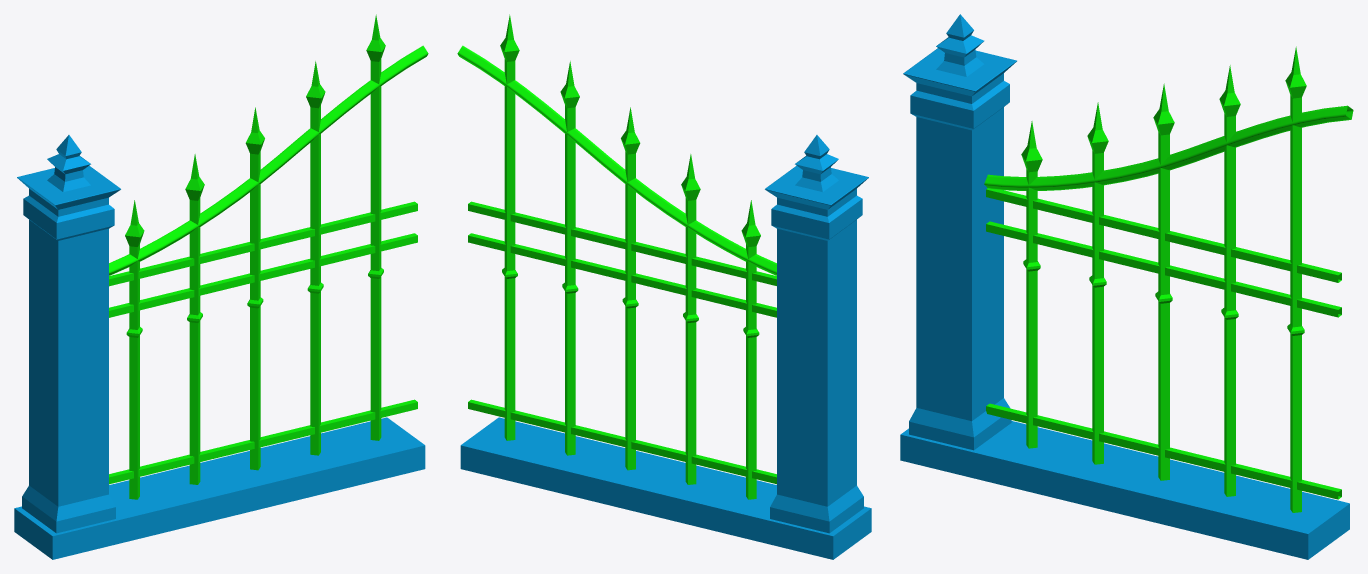
The model's file is graveyard_fence_angled.fbx.
3 renders of one model, left to right at view 1: azimuth 30°, elevation 25°; view 2: azimuth 150°, elevation 25°; view 3: azimuth 330°, elevation 25°, orthographic. The views are drawn at different scales.
Visible parts, largest first — view 1: fence_gate_curved; view 2: fence_gate_curved; view 3: fence_gate_curved.
Boxes of the visible parts, box(x1,y1,x2,y2) form: fence_gate_curved: box(14, 14, 428, 559); fence_gate_curved: box(457, 14, 871, 559); fence_gate_curved: box(900, 14, 1353, 559).
Size of the model in its own units: 130 by 142 by 22.
